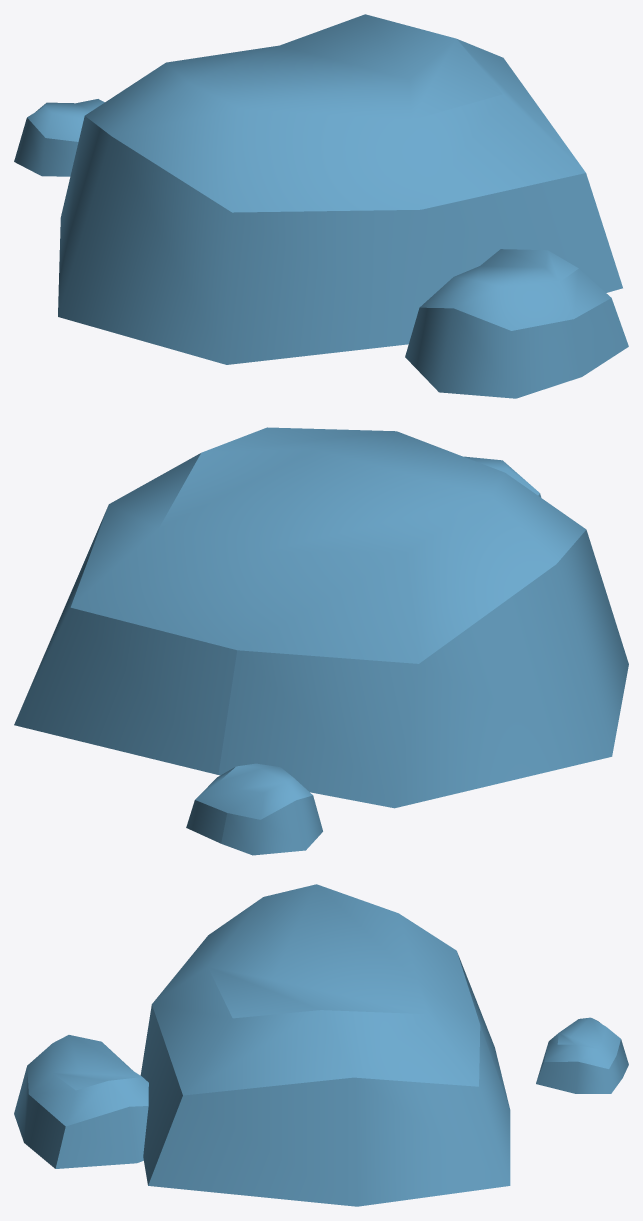
File: sm_Rock (1).fbx
3 renders of one model, top to bottom at view 1: azimuth 30°, elevation 25°; view 2: azimuth 150°, elevation 25°; view 3: azimuth 270°, elevation 25°, orthographic. The views are drawn at different scales.
Parts seen in each view (by area): view 1: Cube.001; view 2: Cube.001; view 3: Cube.001.
Boxes of the visible parts, x1,y1,x2,y2 form: Cube.001: (14,14,628,398); Cube.001: (14,427,628,855); Cube.001: (14,884,628,1206).
Bounding box in the file's own units: 263 × 106 × 340.
